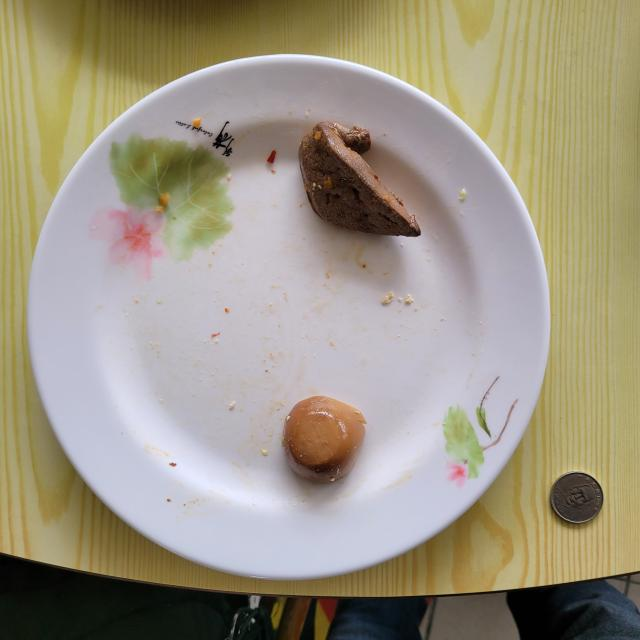coin: (550, 471, 604, 522)
pig liver: (299, 121, 421, 236)
soy egg: (282, 396, 366, 482)
